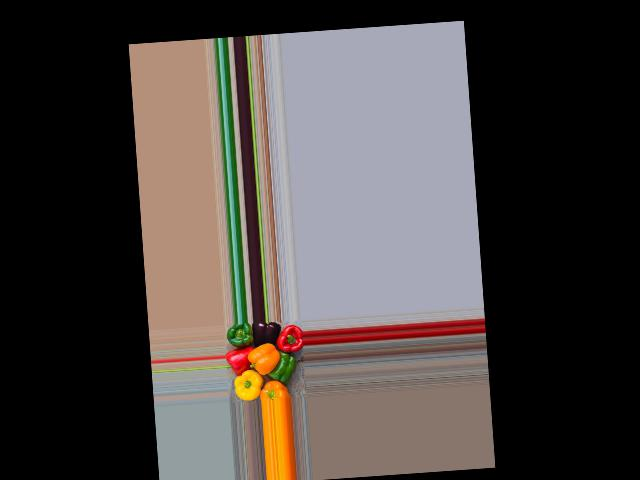bell_pepper: (259, 372, 297, 400)
